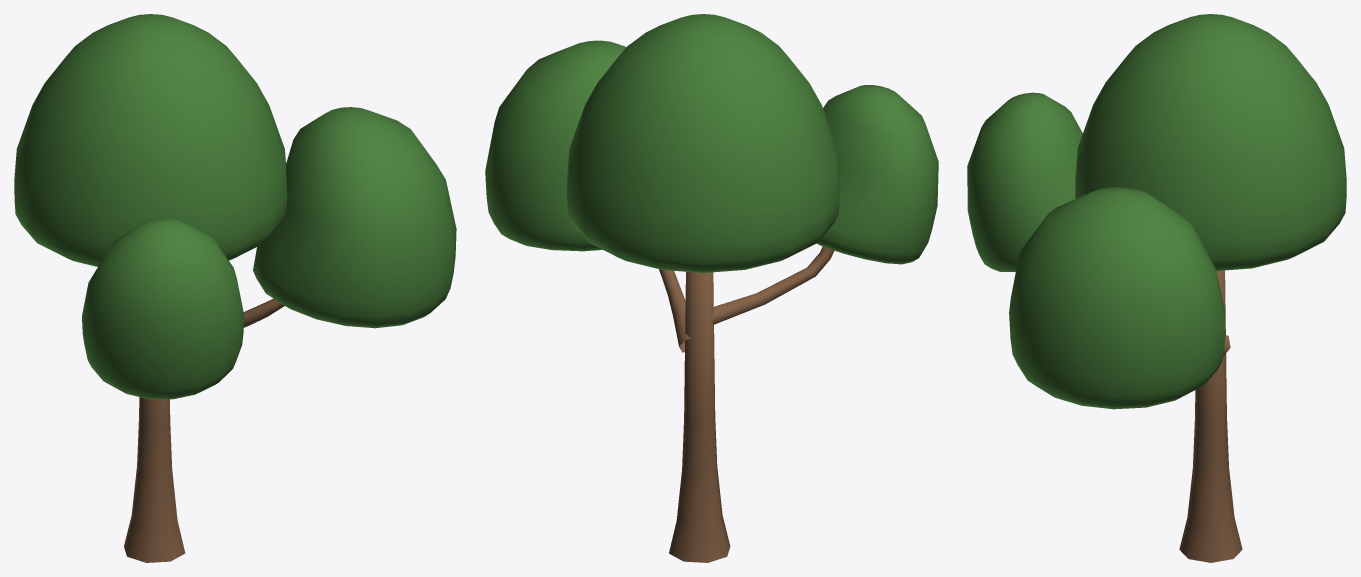
The model's file is SM_tree_standard_03.fbx.
3 views of the same model, side by side, from view 1: azimuth 30°, elevation 25°; view 2: azimuth 150°, elevation 25°; view 3: azimuth 270°, elevation 25° (orthographic).
Visible parts, largest first — view 1: Cylinder51231; view 2: Cylinder51231; view 3: Cylinder51231.
Part boxes in pixels (left/top/right/bottom): Cylinder51231: left=14, top=14, right=456, bottom=562; Cylinder51231: left=485, top=14, right=938, bottom=562; Cylinder51231: left=967, top=14, right=1346, bottom=562.
Bounding box in the file's own units: 133 × 173 × 113.
